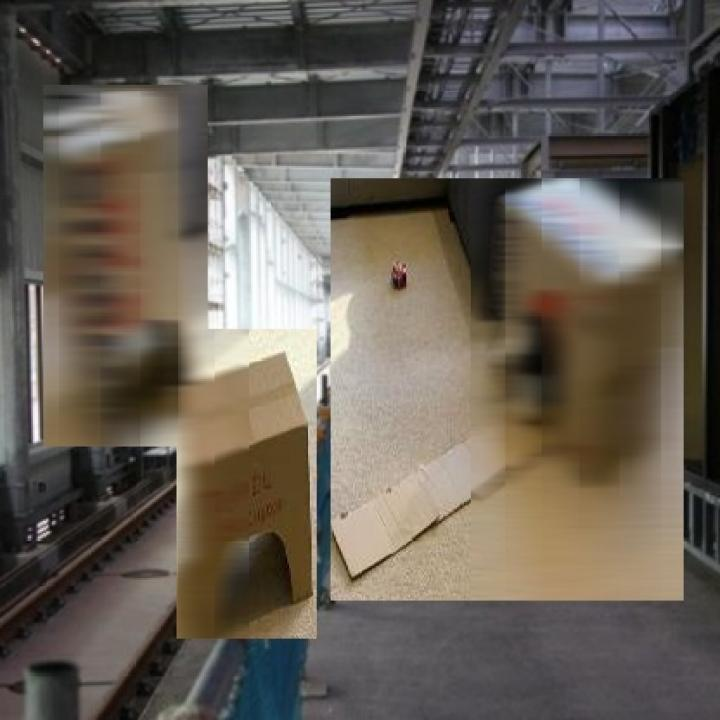box: (326, 172, 690, 608), (42, 80, 211, 453), (174, 325, 321, 644)
